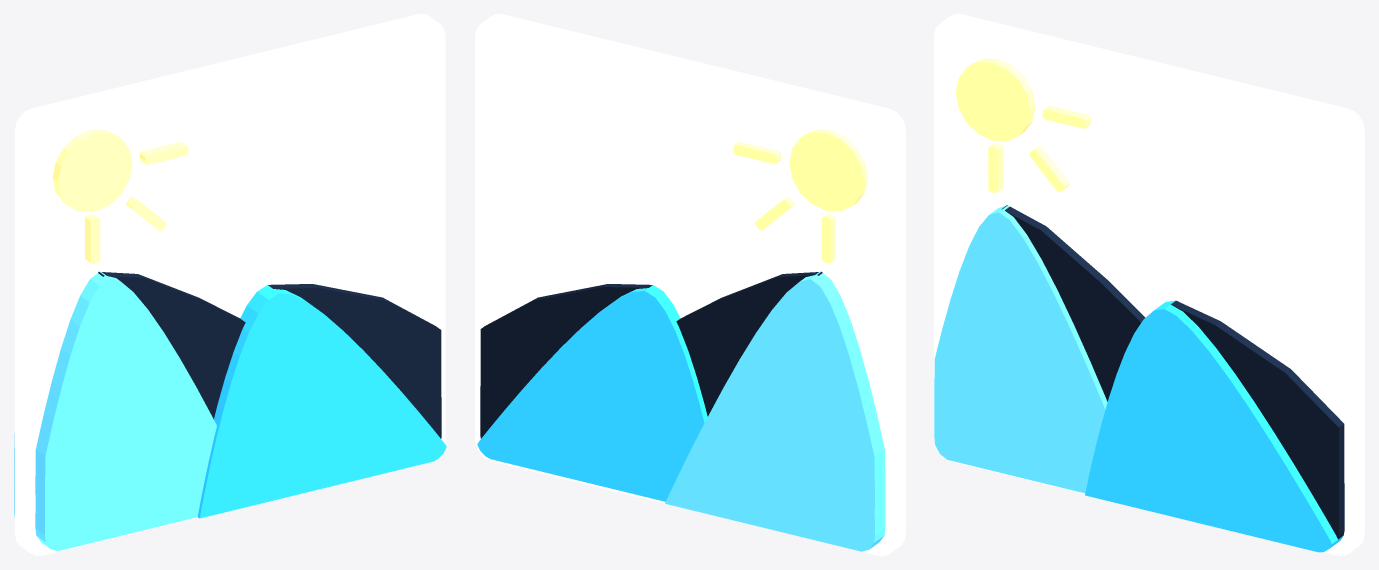
File: l-icons-image-1.glb
The picture shows the model from 3 angles, left to right: view 1: azimuth 30°, elevation 25°; view 2: azimuth 150°, elevation 25°; view 3: azimuth 330°, elevation 25°; orthographic projection.
Visible parts, largest first — view 1: Icon_Image; view 2: Icon_Image; view 3: Icon_Image.
Boxes of the visible parts, x1,y1,x2,y2 form: Icon_Image: [14, 14, 446, 555]; Icon_Image: [475, 14, 905, 555]; Icon_Image: [934, 14, 1364, 555].
Bounding box in the file's own units: 0.5918 × 0.5917 × 0.08.
